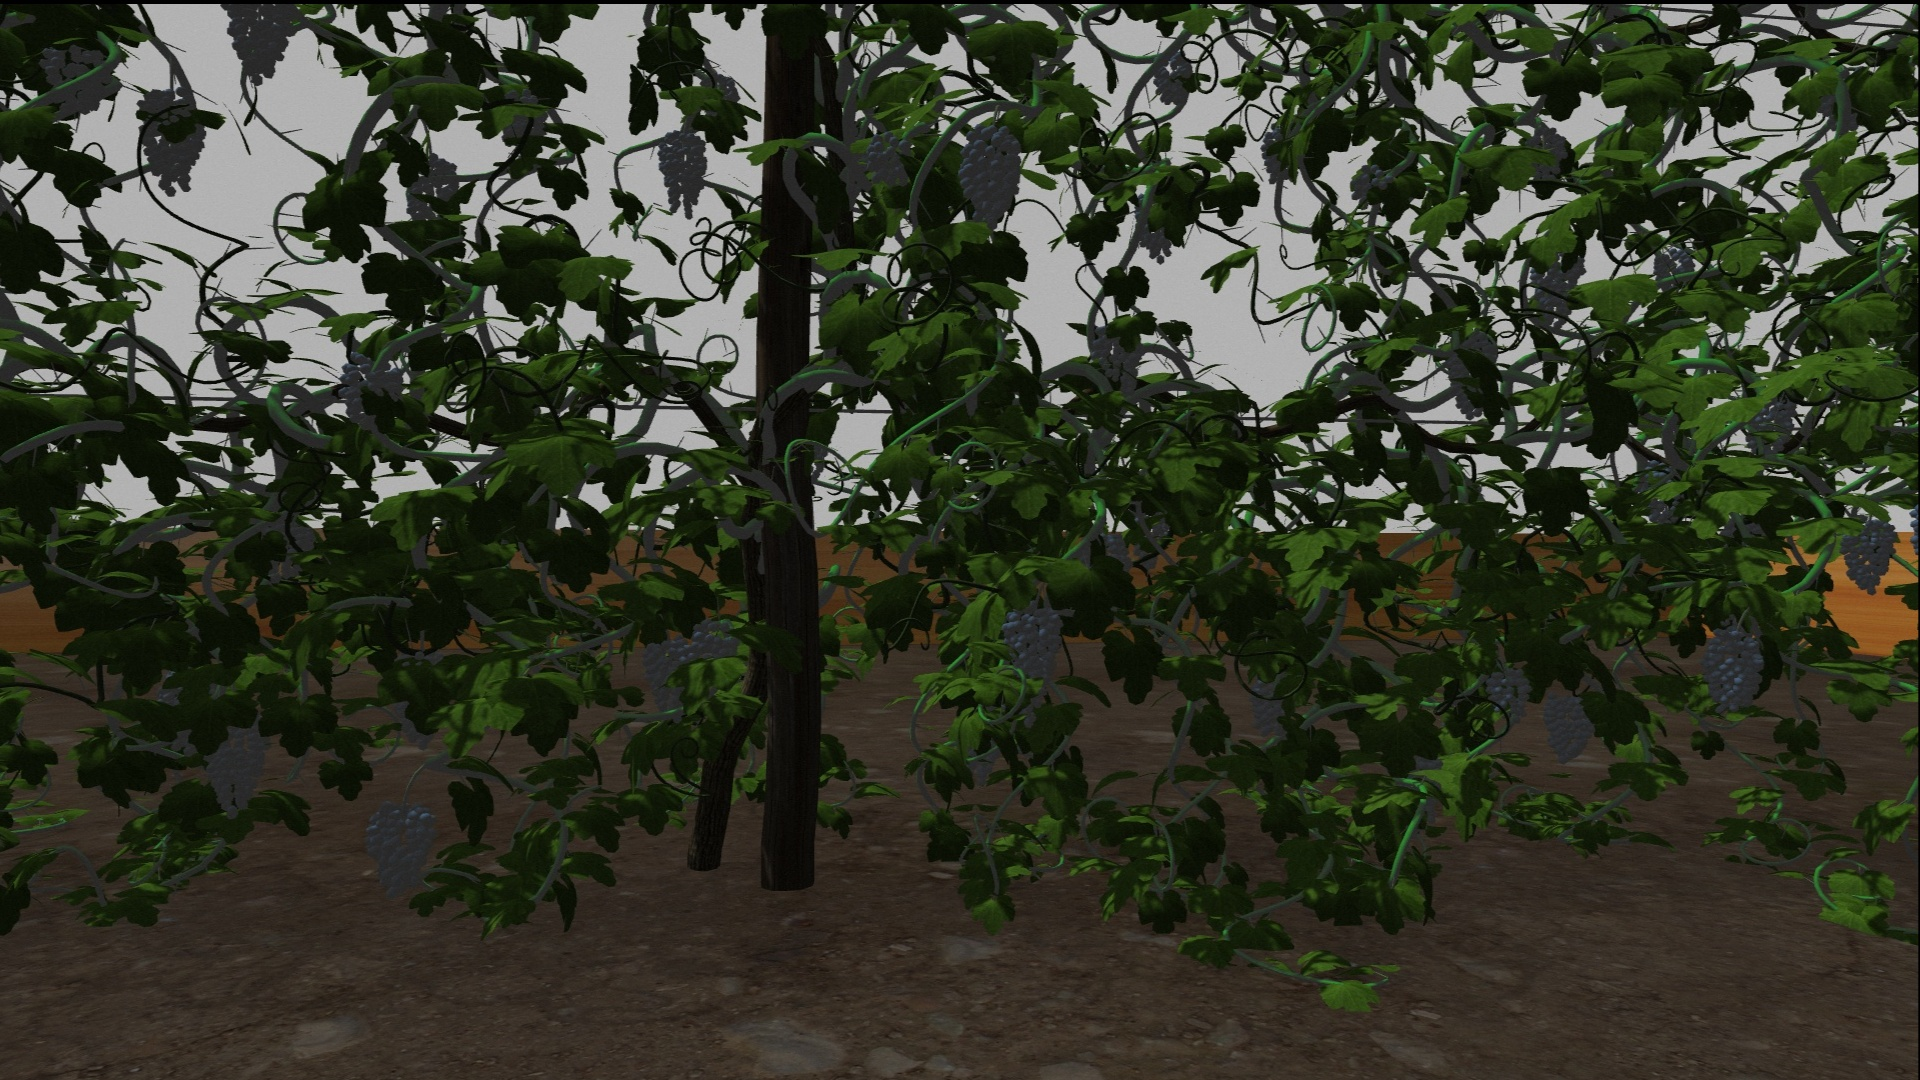grape: (137, 86, 207, 196), (363, 800, 440, 899), (957, 116, 1025, 229), (40, 45, 121, 115), (1704, 625, 1764, 719), (208, 727, 270, 818), (223, 11, 295, 84), (339, 351, 404, 429), (1006, 607, 1065, 691), (1443, 332, 1499, 419), (1842, 509, 1898, 593), (642, 636, 694, 721), (658, 131, 707, 218), (1528, 258, 1588, 327), (404, 152, 460, 220), (1542, 694, 1594, 766), (1095, 320, 1146, 393), (1247, 674, 1298, 738), (1487, 665, 1534, 727), (868, 131, 915, 187), (1524, 127, 1567, 182), (1751, 398, 1793, 454), (690, 620, 741, 662), (1153, 54, 1192, 107), (1654, 244, 1695, 294), (1349, 164, 1391, 207)
